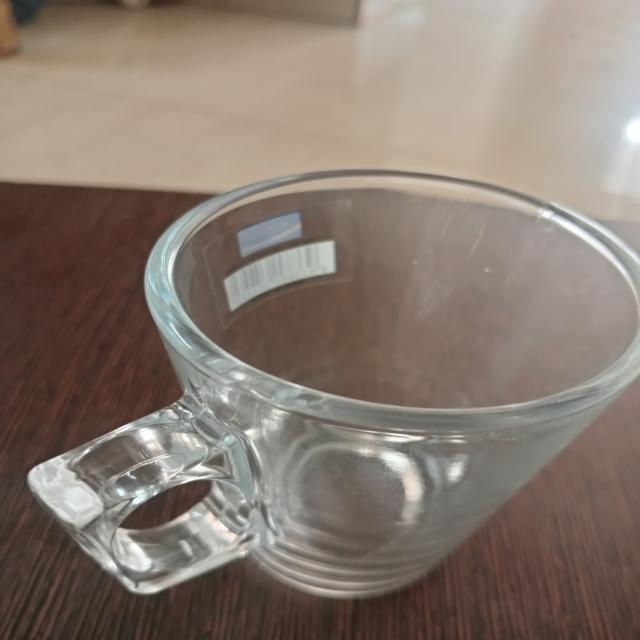glass-VX4N: (31, 169, 639, 640)
